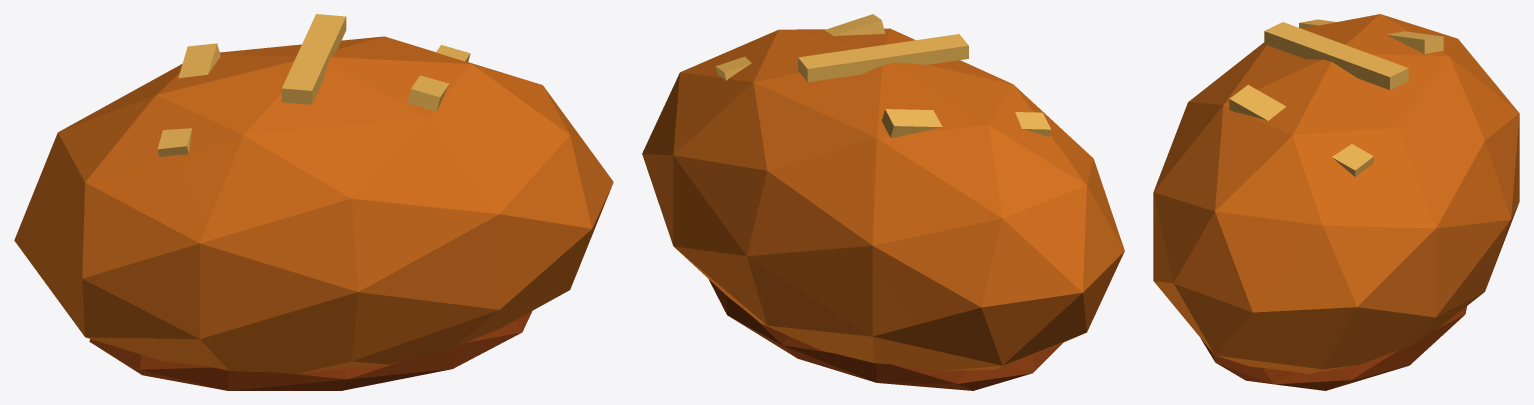
Rendered from pile-bread-1.obj.
3 renders of one model, left to right at view 1: azimuth 30°, elevation 25°; view 2: azimuth 150°, elevation 25°; view 3: azimuth 270°, elevation 25°, orthographic. The views are drawn at different scales.
Parts seen in each view (by area): view 1: pile-bread-1; view 2: pile-bread-1; view 3: pile-bread-1.
Boxes of the visible parts, box(x1,y1,x2,y2) form: pile-bread-1: box(14, 14, 613, 390); pile-bread-1: box(642, 14, 1124, 390); pile-bread-1: box(1153, 14, 1519, 390).
Bounding box in the file's own units: 0.3443 × 0.2025 × 0.2306.
1 material, 1 textured.
